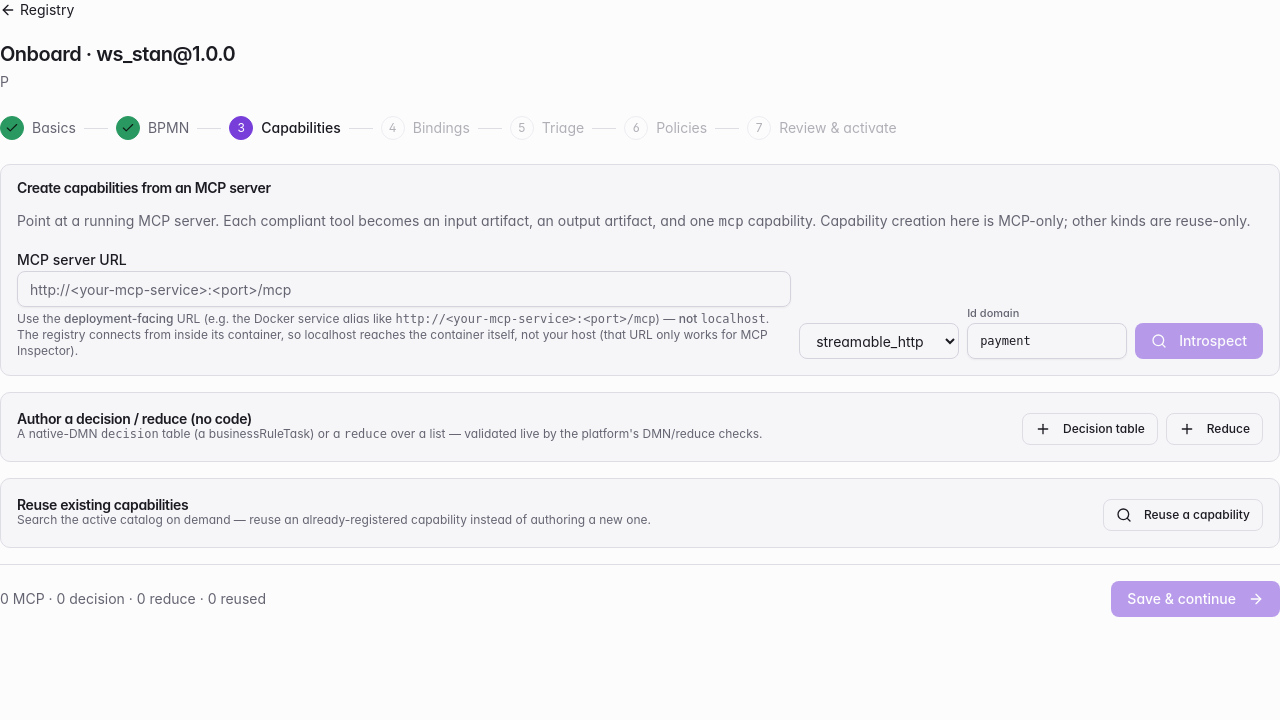
Test: Onboarding wizard › capabilities step surfaces a hard id-collision with a diff and the two fixes (batch-4)
The image size is (1280, 720).
Type "http://mcp:8060/mcp" into the field with placeholder "http://<your-mcp-service>:<port>/mcp" at coordinates (404, 289), box 17,271 -> 791,307
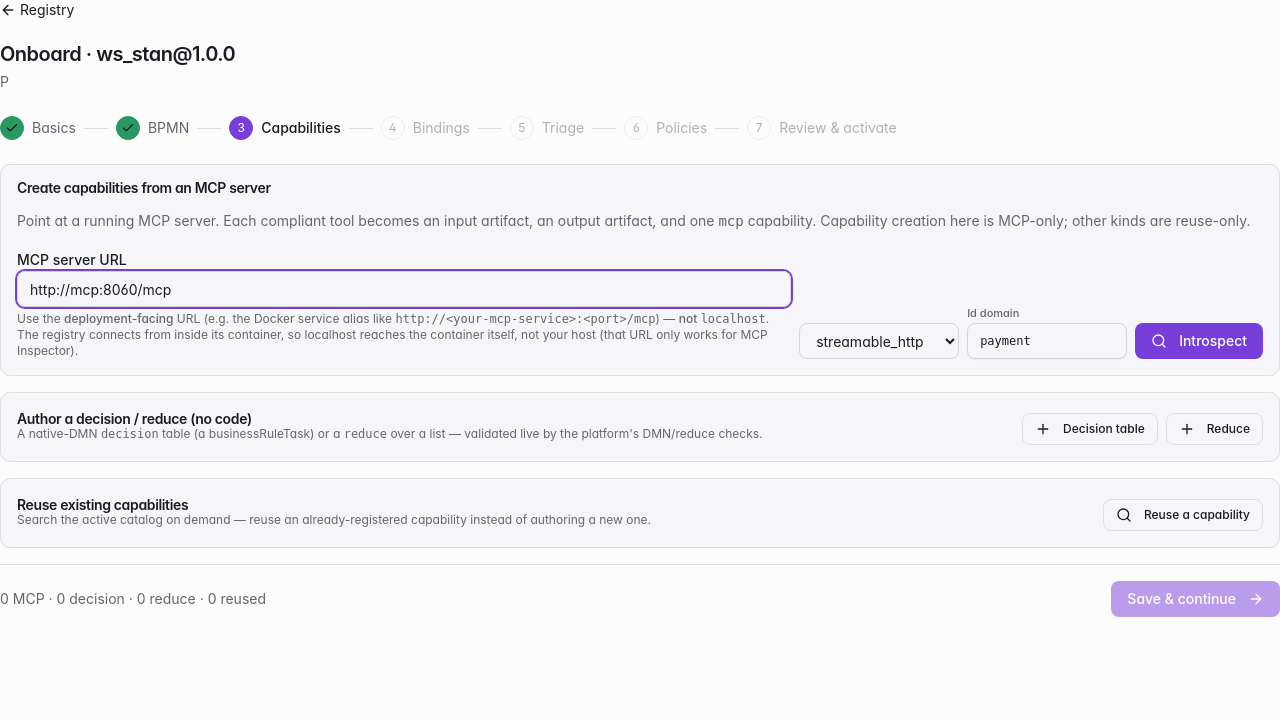
Click the button "Introspect" at coordinates (1199, 341), box 1135,323 -> 1263,359
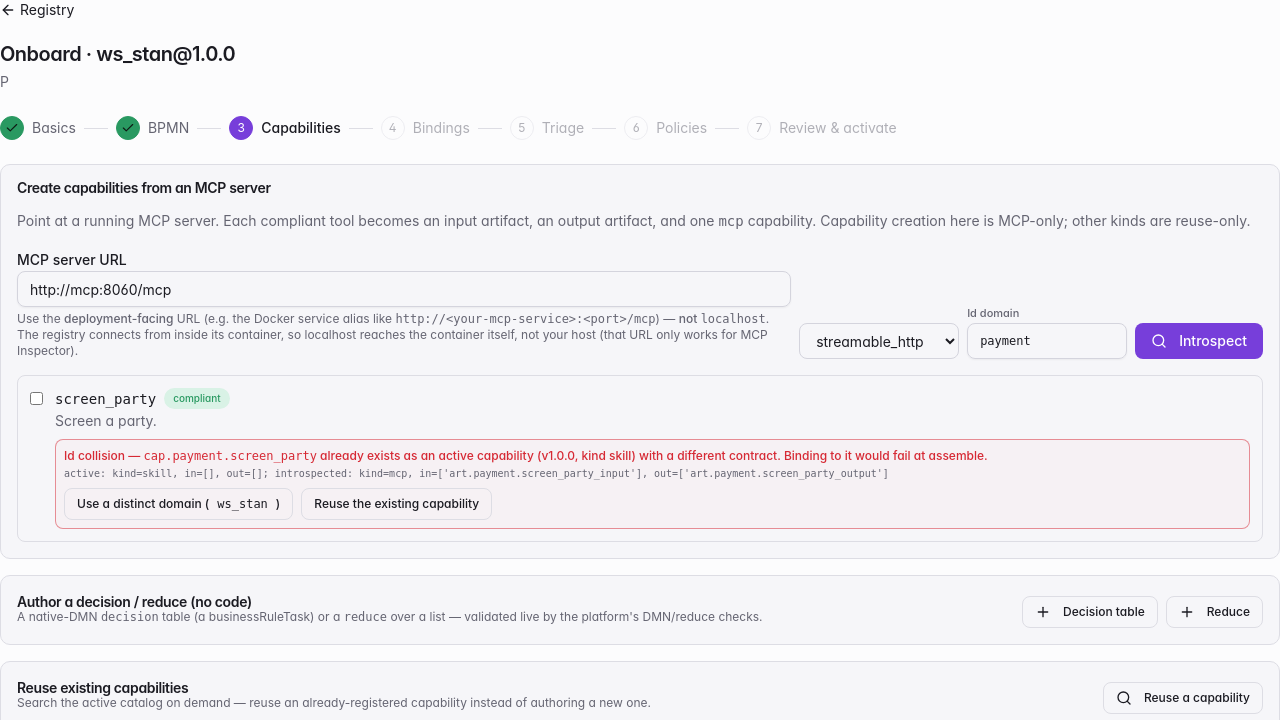
Result: the text "Id collision" is shown at 64,448 -> 144,463
Result: the text "kind=skill" is shown at 64,468 -> 889,479
Result: the button "Use a distinct domain ( ws_stan )" is shown at 64,488 -> 293,520
